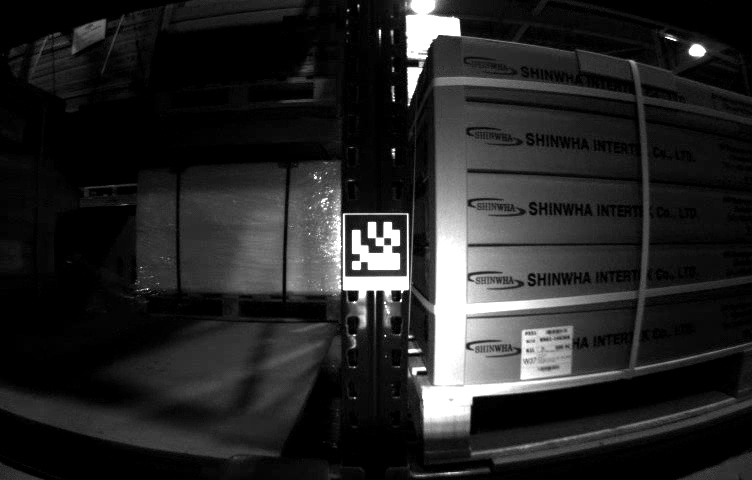True Barcode: (521, 328, 574, 374)
